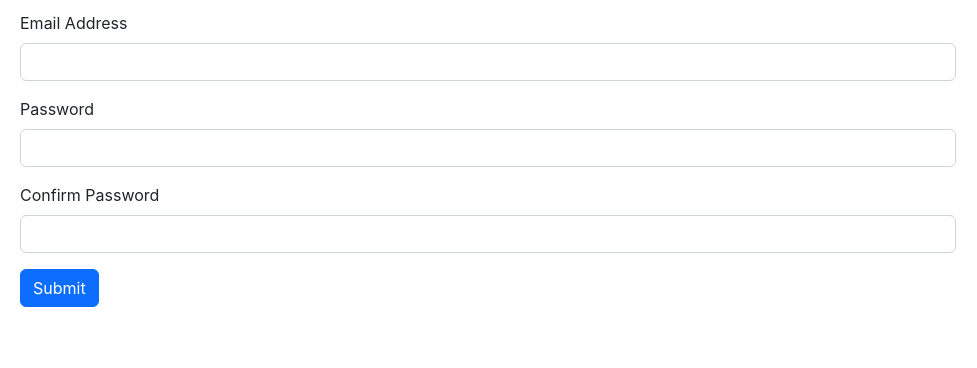
App component › Error handling › should show email error message on invalid email
Expected: the text "Your email address is invalid, please correct." is not shown
In the field: [488, 62] box 20,43 -> 956,81, type "testtest.com"
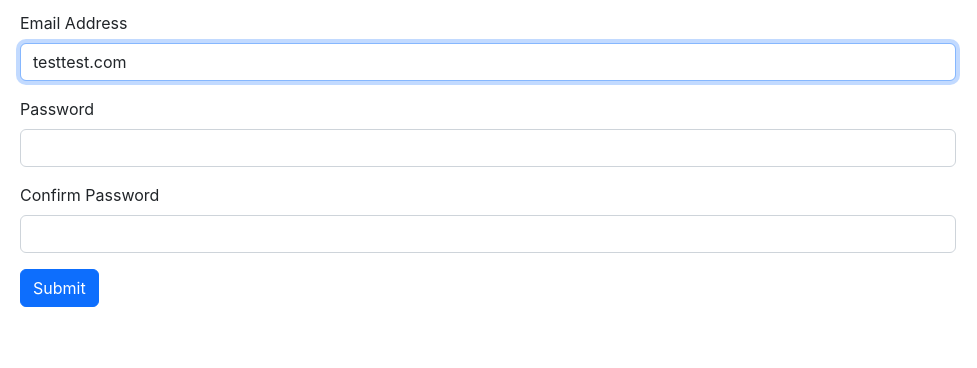
Click the button "Submit": [59, 288] box 20,269 -> 99,307
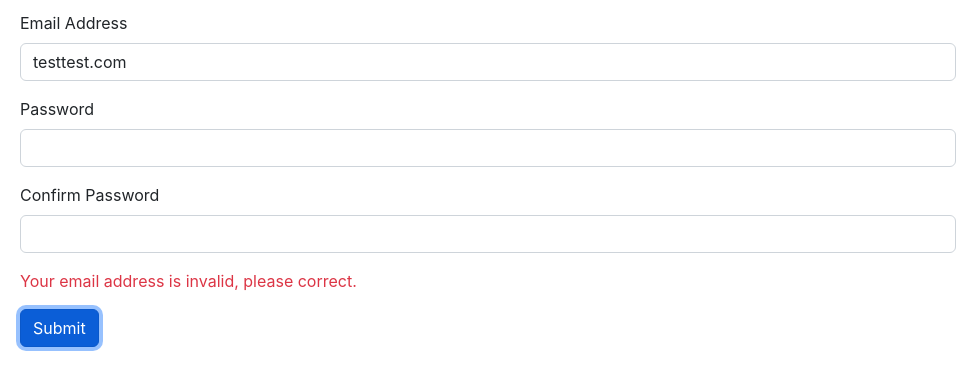
Now the text "Your email address is invalid, please correct." is shown, box 20,271 -> 357,291
